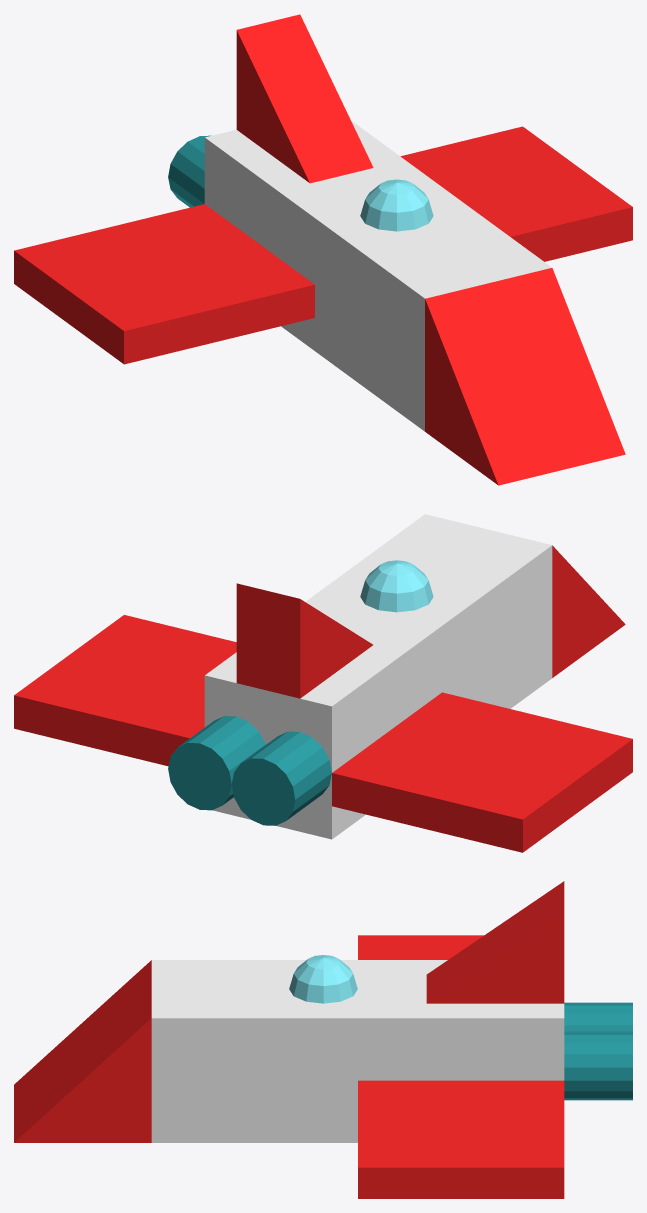
The model's file is nave.glb.
3 views of the same model, one above another, from view 1: azimuth 30°, elevation 25°; view 2: azimuth 150°, elevation 25°; view 3: azimuth 270°, elevation 25° (orthographic). The views are drawn at different scales.
Visible parts, largest first — view 1: casco, bico, asa-esq, asa-dir, nadadeira, cabine, motor-esq; view 2: casco, asa-esq, asa-dir, nadadeira, motor-esq, motor-dir, bico, cabine; view 3: casco, asa-dir, bico, nadadeira, motor-dir, asa-esq, cabine, motor-esq.
Part boxes in pixels (<box>): casco: <box>204,120,551,431</box>; bico: <box>425,268,625,485</box>; asa-esq: <box>14,204,314,364</box>; asa-dir: <box>400,126,632,261</box>; nadadeira: <box>236,14,373,183</box>; cabine: <box>360,179,433,231</box>; motor-esq: <box>168,135,211,207</box>; casco: <box>204,514,552,839</box>; asa-esq: <box>332,692,632,852</box>; asa-dir: <box>14,615,236,766</box>; nadadeira: <box>236,583,372,698</box>; motor-esq: <box>231,731,331,825</box>; motor-dir: <box>168,716,265,810</box>; bico: <box>552,545,625,677</box>; cabine: <box>360,560,433,612</box>; casco: <box>151,960,564,1142</box>; asa-dir: <box>358,1080,564,1198</box>; bico: <box>14,960,151,1142</box>; nadadeira: <box>426,881,564,1003</box>; motor-dir: <box>564,1031,632,1100</box>; asa-esq: <box>358,935,483,959</box>; cabine: <box>289,955,357,1003</box>; motor-esq: <box>564,1002,632,1031</box>.
Bounding box in the file's own units: 8 × 3.5 × 9.
Materials: 8 (8 with a texture image).
